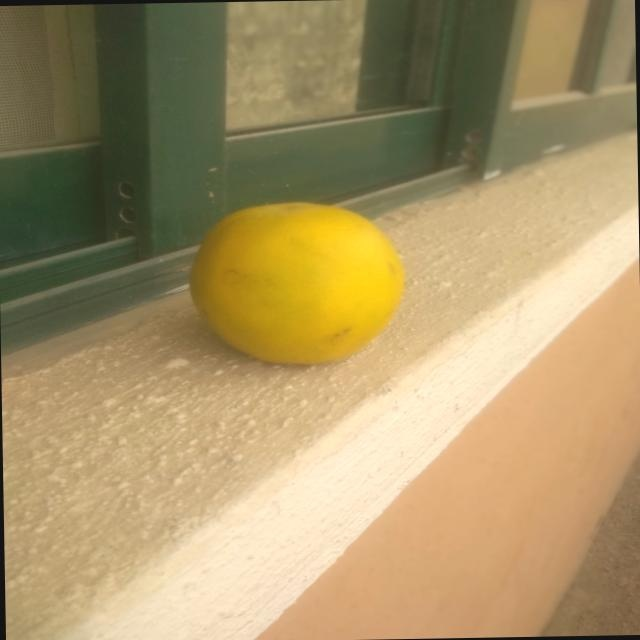agrume: (192, 197, 404, 375)
